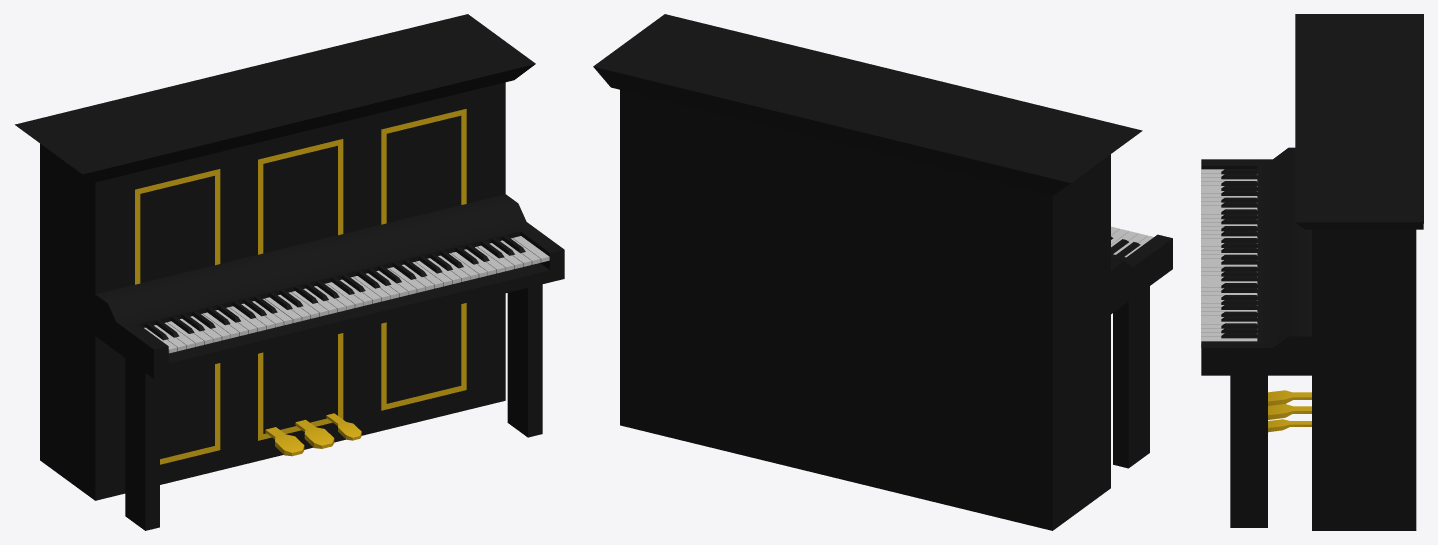
Rendered from Vintage Piano.fbx.
The picture shows the model from 3 angles, left to right: view 1: azimuth 30°, elevation 25°; view 2: azimuth 150°, elevation 25°; view 3: azimuth 270°, elevation 25°; orthographic projection. The views are drawn at different scales.
Visible parts, largest first — view 1: Cube_2, Boole_1, Cloner, Cube_2_2, Cube, Symmetry; view 2: Cube_2, Cube_2_2, Boole_1, Cloner; view 3: Cube_2, Boole_1, Cloner, Cube_2_2, Symmetry.
Part boxes in pixels (bbox=[...]): Cube_2: bbox=[15, 14, 535, 500]; Boole_1: bbox=[95, 194, 564, 378]; Cloner: bbox=[144, 235, 549, 353]; Cube_2_2: bbox=[125, 284, 542, 530]; Cube: bbox=[135, 109, 466, 464]; Symmetry: bbox=[265, 413, 361, 456]; Cube_2: bbox=[593, 14, 1142, 530]; Cube_2_2: bbox=[1113, 286, 1149, 468]; Boole_1: bbox=[1111, 234, 1172, 314]; Cloner: bbox=[1111, 226, 1153, 257]; Cube_2: bbox=[1295, 14, 1423, 530]; Boole_1: bbox=[1201, 147, 1311, 375]; Cloner: bbox=[1201, 169, 1257, 347]; Cube_2_2: bbox=[1230, 375, 1267, 527]; Symmetry: bbox=[1268, 390, 1311, 432].
Bounding box in the file's own units: 128 × 90.85 × 57.59.
